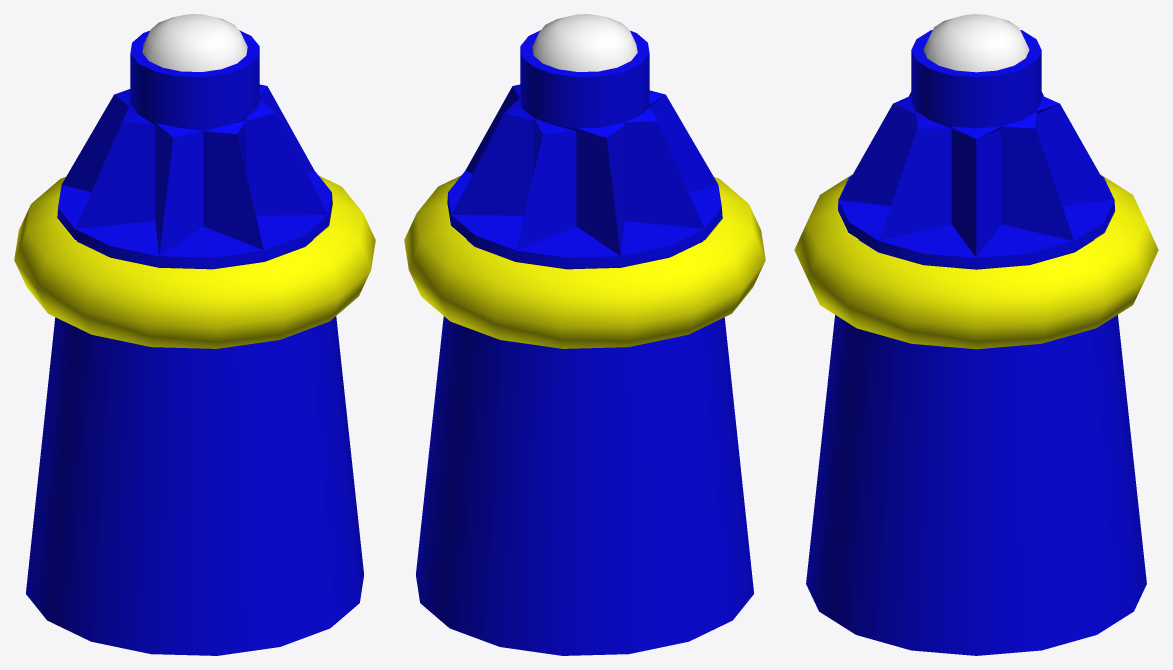
File: SM_Post.FBX
The picture shows the model from 3 angles, left to right: view 1: azimuth 30°, elevation 25°; view 2: azimuth 150°, elevation 25°; view 3: azimuth 270°, elevation 25°; orthographic projection.
Parts seen in each view (by area): view 1: SM_Post; view 2: SM_Post; view 3: SM_Post.
Part boxes in pixels (x1,y1,x2,y2): SM_Post: (14, 14, 375, 655); SM_Post: (404, 14, 765, 655); SM_Post: (794, 14, 1158, 655).
Bounding box in the file's own units: 61.69 × 61.69 × 105.
